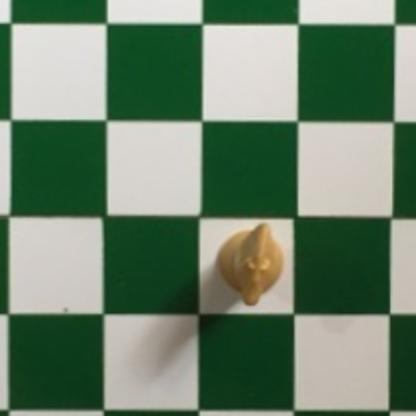white-knight: (214, 220, 286, 308)
